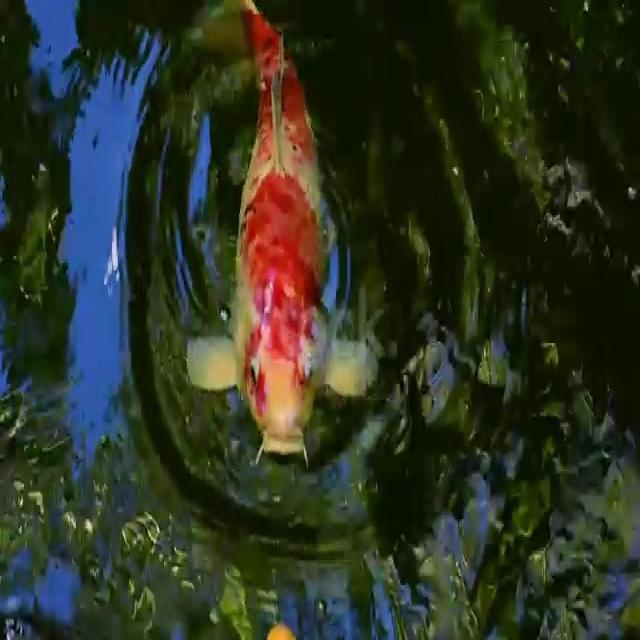fish: (180, 0, 390, 481)
